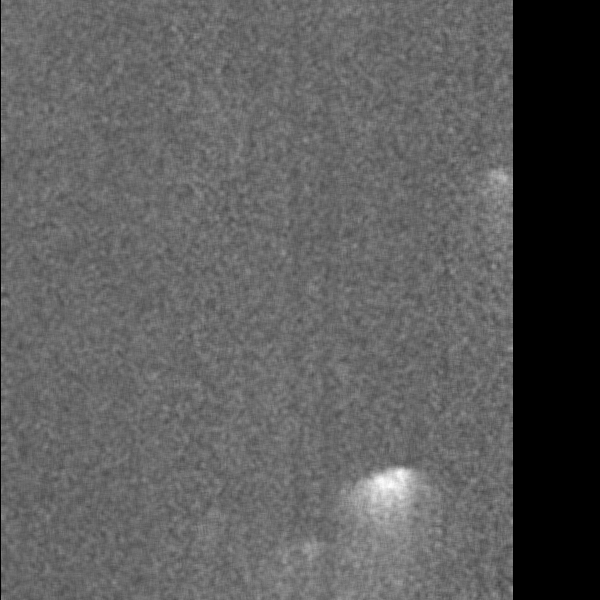spark: (333, 462, 440, 571), (488, 168, 510, 211)
